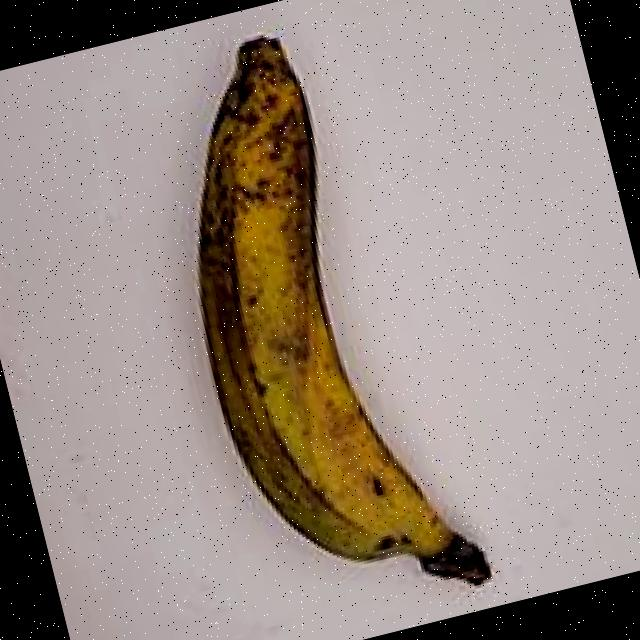Overripe: (88, 0, 541, 640)
